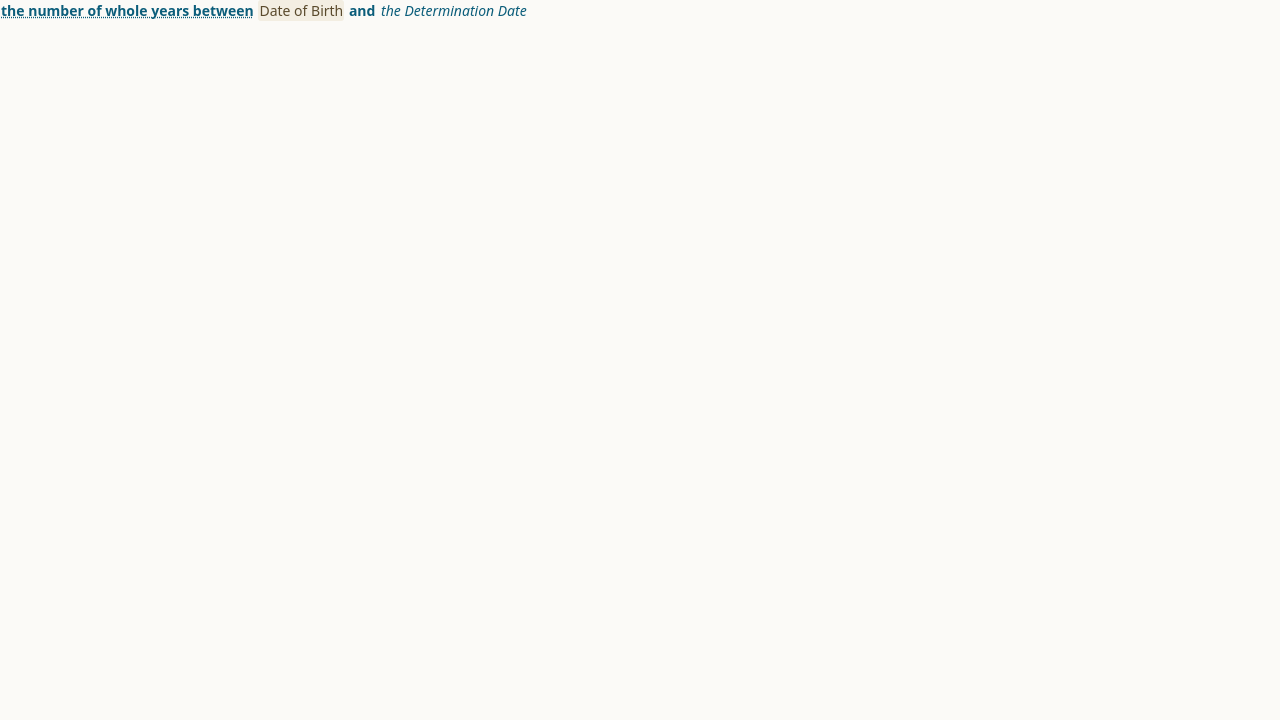
Test case: Rich › closes on a click outside it
Click the button with class "fact".
click(301, 10)  # box [258,0,344,21]
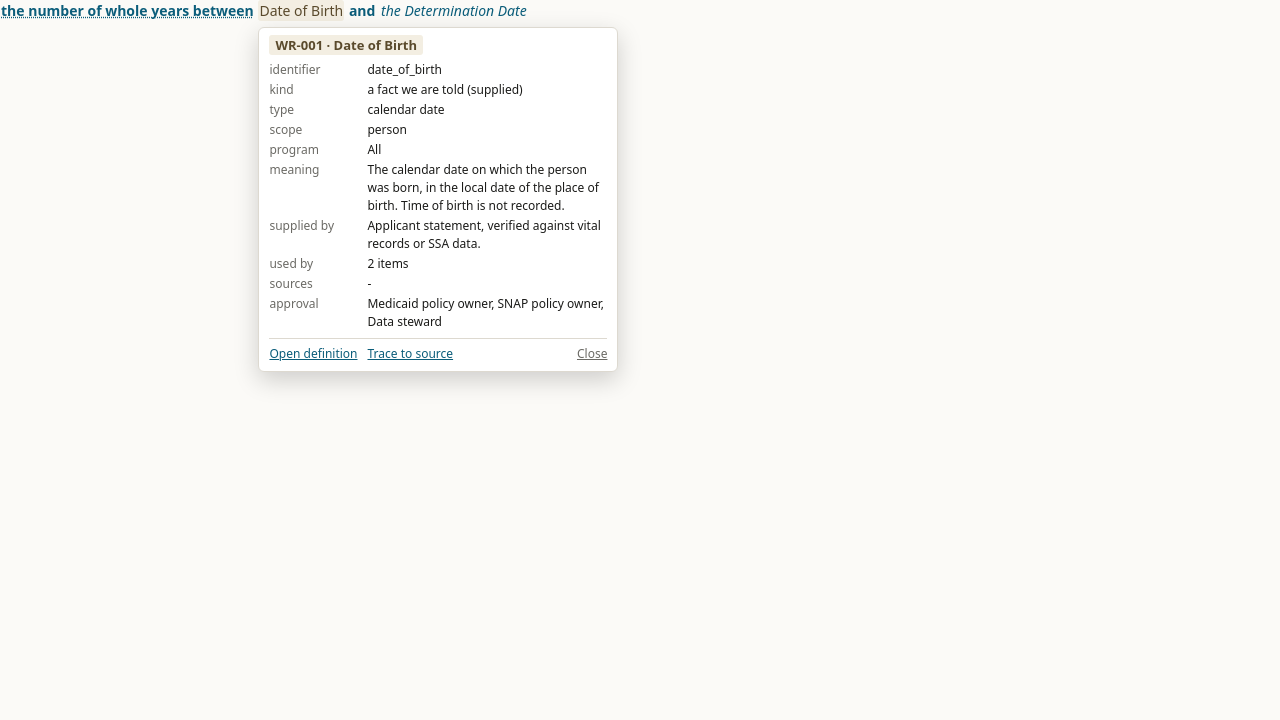
Click the element that starts with "the number of whole years between".
click(640, 10)  # box [0,0,1279,21]
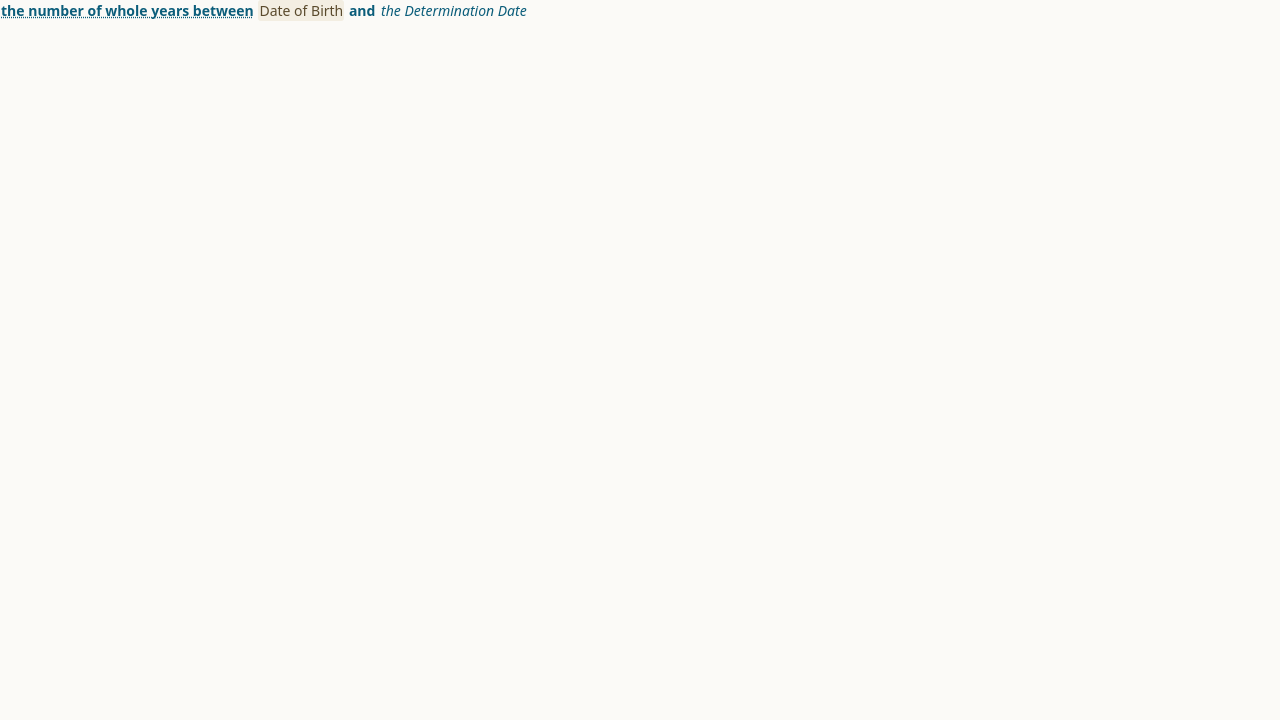
Check: the dialog with class "tokpop" is gone
